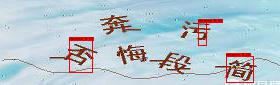chinese: (99, 12, 130, 39), (181, 19, 213, 44), (160, 51, 192, 76), (110, 42, 144, 64), (225, 56, 254, 79), (66, 43, 93, 66)
